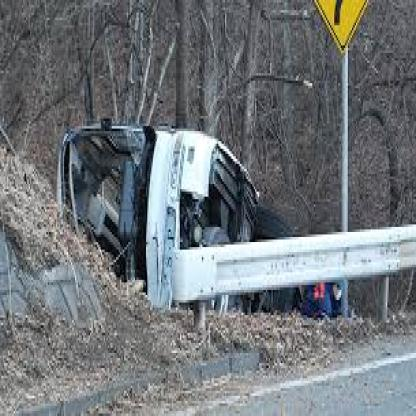accident: (56, 98, 307, 318)
